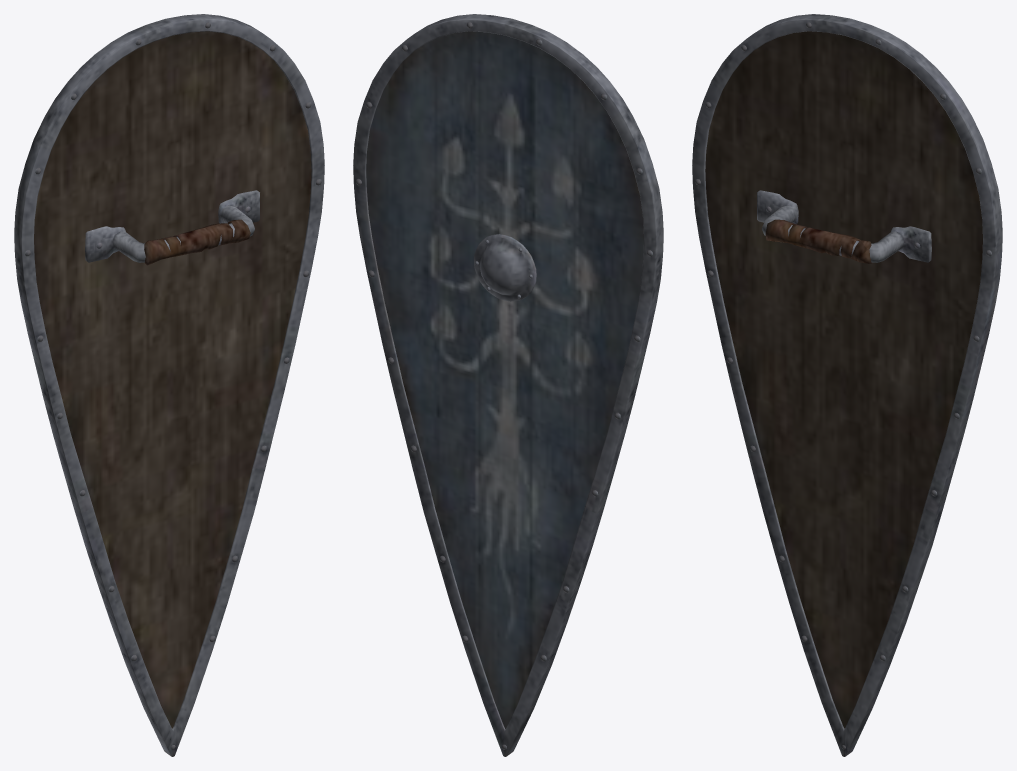
File: weapon-wp_a_2042.glb
3 renders of one model, left to right at view 1: azimuth 30°, elevation 25°; view 2: azimuth 150°, elevation 25°; view 3: azimuth 330°, elevation 25°, orthographic.
Visible parts, largest first — view 1: wp_a_2042_mesh; view 2: wp_a_2042_mesh; view 3: wp_a_2042_mesh.
Boxes of the visible parts, x1,y1,x2,y2 form: wp_a_2042_mesh: (14, 14, 324, 756); wp_a_2042_mesh: (353, 14, 663, 756); wp_a_2042_mesh: (692, 14, 1002, 756).
Bounding box in the file's own units: 0.4963 × 1.15 × 0.1259.
1 material, 1 textured.
